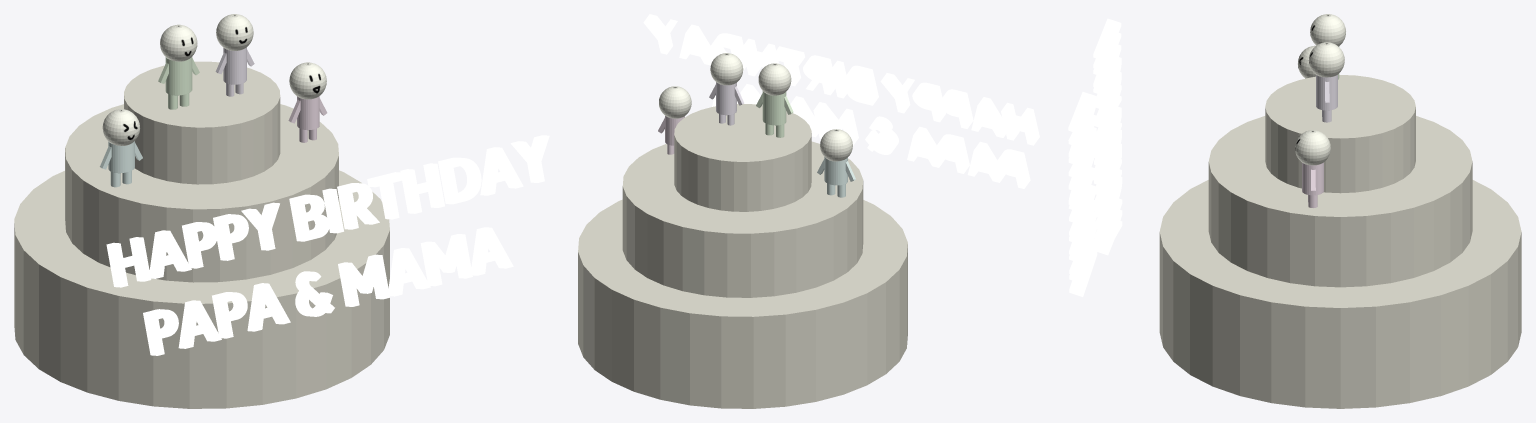
File: asset.glb
The picture shows the model from 3 angles, left to right: view 1: azimuth 30°, elevation 25°; view 2: azimuth 150°, elevation 25°; view 3: azimuth 270°, elevation 25°; orthographic projection. The views are drawn at different scales.
Parts seen in each view (by area): view 1: Cylinder, Text, Cylinder.001, Cylinder.002, Sphere.001, Sphere.002, Sphere.003, Sphere, Cylinder.012, Cylinder.011, Cylinder.005, Cylinder.006; view 2: Cylinder, Cylinder.001, Text, Cylinder.002, Sphere.003, Sphere.001, Sphere.002, Sphere, Cylinder.012, Cylinder.011, Cylinder.005; view 3: Cylinder, Cylinder.001, Cylinder.002, Text, Sphere.002, Sphere.001, Sphere.003, Cylinder.011, Cylinder.006.
Part boxes in pixels (bbox=[...]): Cylinder: bbox=[14, 170, 389, 408]; Text: bbox=[106, 135, 549, 355]; Cylinder.001: bbox=[65, 104, 338, 282]; Cylinder.002: bbox=[124, 61, 280, 184]; Sphere.001: bbox=[289, 62, 326, 99]; Sphere.002: bbox=[216, 14, 253, 50]; Sphere.003: bbox=[160, 24, 197, 61]; Sphere: bbox=[102, 109, 139, 145]; Cylinder.012: bbox=[165, 57, 192, 95]; Cylinder.011: bbox=[223, 47, 246, 84]; Cylinder.005: bbox=[108, 141, 134, 173]; Cylinder.006: bbox=[297, 96, 319, 130]; Cylinder: bbox=[578, 199, 907, 408]; Cylinder.001: bbox=[622, 141, 863, 297]; Text: bbox=[643, 14, 1039, 188]; Cylinder.002: bbox=[674, 104, 811, 211]; Sphere.003: bbox=[758, 63, 791, 95]; Sphere.001: bbox=[659, 86, 691, 118]; Sphere.002: bbox=[710, 53, 743, 85]; Sphere: bbox=[820, 129, 852, 161]; Cylinder.012: bbox=[762, 91, 786, 125]; Cylinder.011: bbox=[716, 82, 736, 115]; Cylinder.005: bbox=[824, 157, 847, 185]; Cylinder: bbox=[1159, 180, 1521, 408]; Cylinder.001: bbox=[1208, 116, 1472, 287]; Cylinder.002: bbox=[1265, 75, 1415, 193]; Text: bbox=[1068, 18, 1122, 296]; Sphere.002: bbox=[1308, 42, 1344, 77]; Sphere.001: bbox=[1295, 130, 1330, 165]; Sphere.003: bbox=[1310, 14, 1345, 46]; Cylinder.011: bbox=[1316, 74, 1337, 110]; Cylinder.006: bbox=[1302, 162, 1323, 195].
Size of the model in its own units: 66.34 by 45.74 by 62.02.
Materials: 26 (24 with a texture image).
